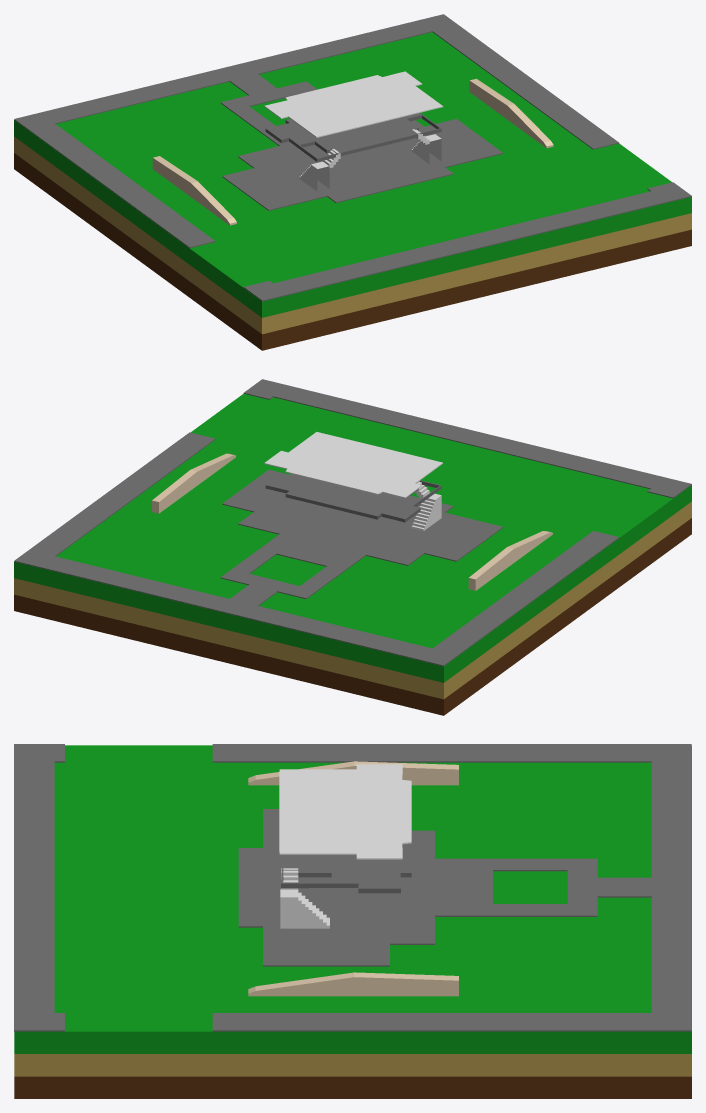
File: ZipaquiraColisiones.glb
The picture shows the model from 3 angles, top to bottom: view 1: azimuth 30°, elevation 25°; view 2: azimuth 150°, elevation 25°; view 3: azimuth 270°, elevation 25°; orthographic projection. The views are drawn at different scales.
Parts seen in each view (by area): view 1: Plane.009, Plane.010, Cube.943, Cube.897, Cube.892, Cube.945; view 2: Plane.009, Plane.010, Cube.943, Cube.897, Cube.892, Cube.945; view 3: Plane.009, Plane.010, Cube.943, Cube.892, Cube.897, Cube.945.
Part boxes in pixels (x1,y1,x2,y2): Plane.009: [14, 32, 691, 350]; Plane.010: [14, 14, 691, 301]; Cube.943: [264, 71, 443, 137]; Cube.897: [265, 113, 441, 162]; Cube.892: [152, 78, 553, 225]; Cube.945: [299, 134, 441, 191]; Plane.009: [14, 393, 691, 715]; Plane.010: [14, 379, 691, 666]; Cube.943: [264, 432, 442, 498]; Cube.897: [265, 474, 441, 522]; Cube.892: [152, 453, 552, 590]; Cube.945: [299, 492, 441, 531]; Plane.009: [14, 745, 691, 1098]; Plane.010: [14, 744, 691, 1031]; Cube.943: [279, 764, 411, 859]; Cube.892: [248, 761, 458, 996]; Cube.897: [281, 843, 411, 893]; Cube.945: [280, 889, 329, 928].
Size of what is drawn, in the model's own units: 33.35 by 7.84 by 33.36.
